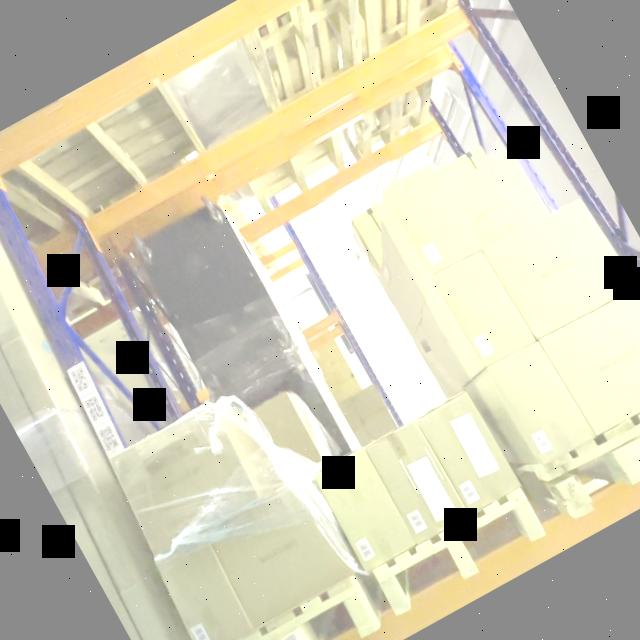box: (112, 404, 258, 555), (209, 476, 355, 625), (484, 199, 638, 340), (539, 288, 640, 437), (489, 342, 596, 464), (418, 393, 519, 515), (316, 449, 417, 571), (368, 422, 469, 542), (434, 250, 536, 367), (156, 538, 256, 640), (450, 152, 551, 247), (389, 168, 480, 273), (248, 394, 322, 483)
